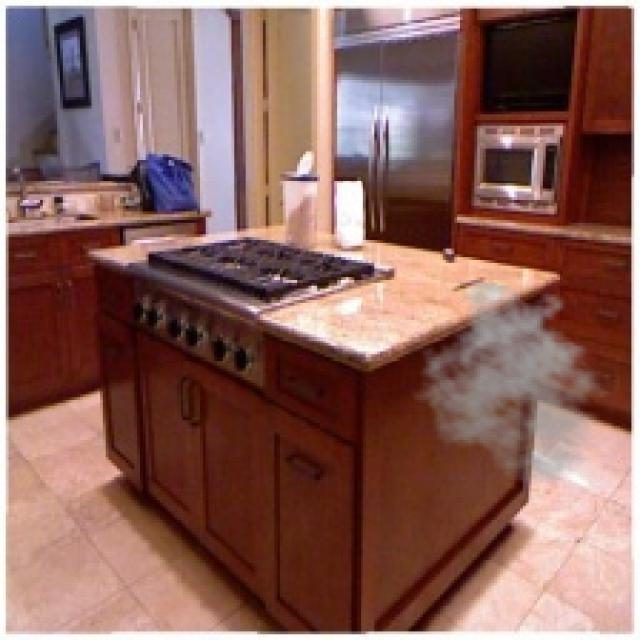Smoke: (411, 277, 620, 486)
